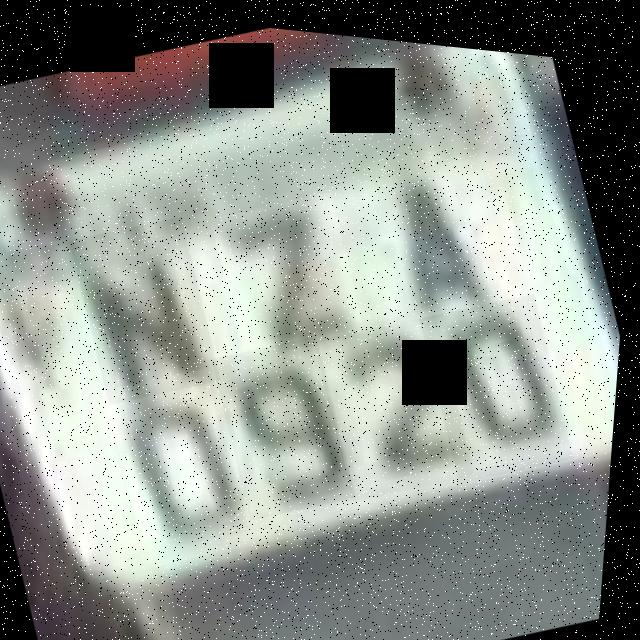0: (414, 272, 591, 482), (102, 355, 258, 545)
2: (310, 295, 490, 504)
9: (208, 321, 372, 522)
A: (349, 136, 538, 364)
N: (64, 203, 236, 411)
Z: (206, 175, 377, 361)
